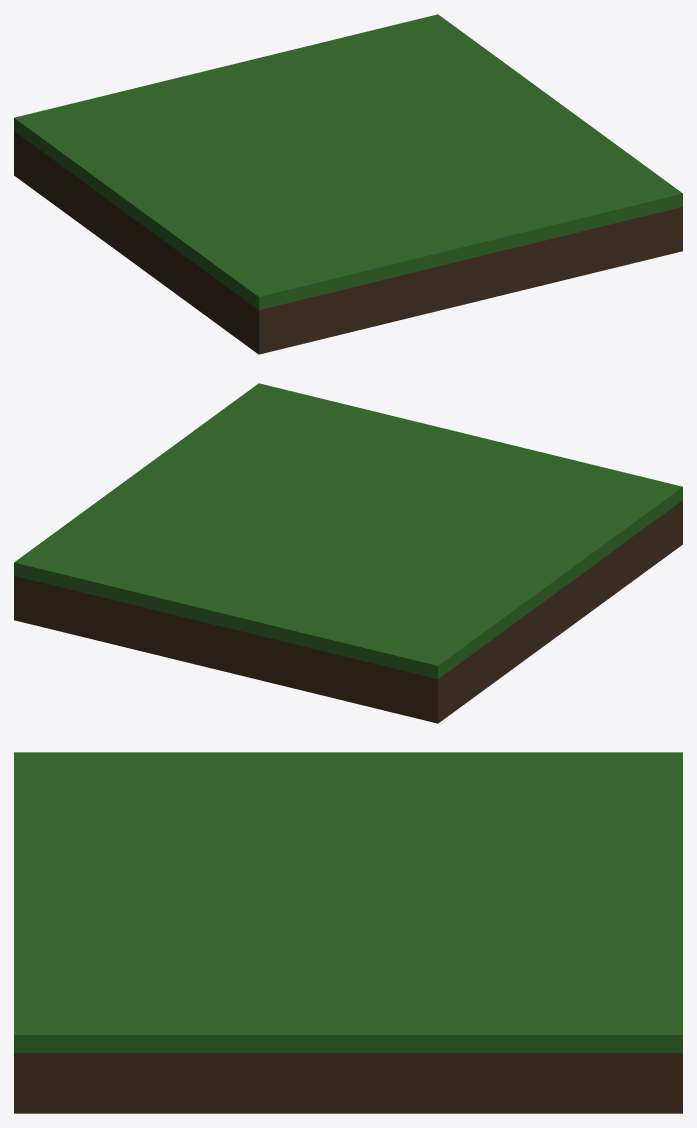
Rendered from roof.covering.green.glb.
3 views of the same model, one above another, from view 1: azimuth 30°, elevation 25°; view 2: azimuth 150°, elevation 25°; view 3: azimuth 270°, elevation 25° (orthographic). The views are drawn at different scales.
Parts seen in each view (by area): view 1: main__foliage, main__soil; view 2: main__foliage, main__soil; view 3: main__foliage, main__soil.
Boxes of the visible parts, x1,y1,x2,y2 form: main__foliage: (14,14,682,310); main__soil: (14,131,682,354); main__foliage: (14,383,682,679); main__soil: (14,500,682,723); main__foliage: (14,752,682,1052); main__soil: (14,1053,682,1113).
Size of the model in its own units: 1 by 0.13 by 1.
